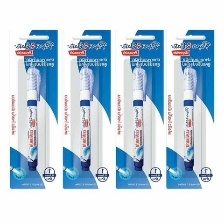correction_fluid: (22, 61, 45, 174), (75, 62, 96, 173), (179, 62, 200, 173), (130, 63, 149, 173)
